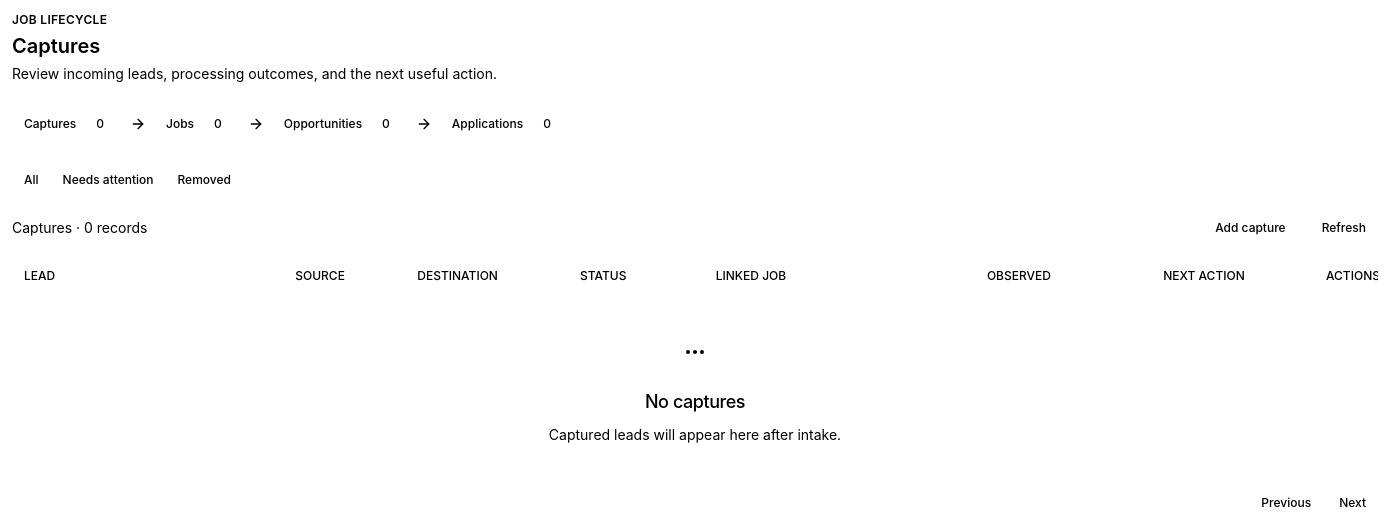
Test case: LifecycleWorkbench › loads every aggregate through the workspace client and switches the shared table wiring
Expected: the text "No captures" is shown, [645,388,745,416]
Click the button "Jobs 0".
click(197, 124)  # box [154,108,240,140]
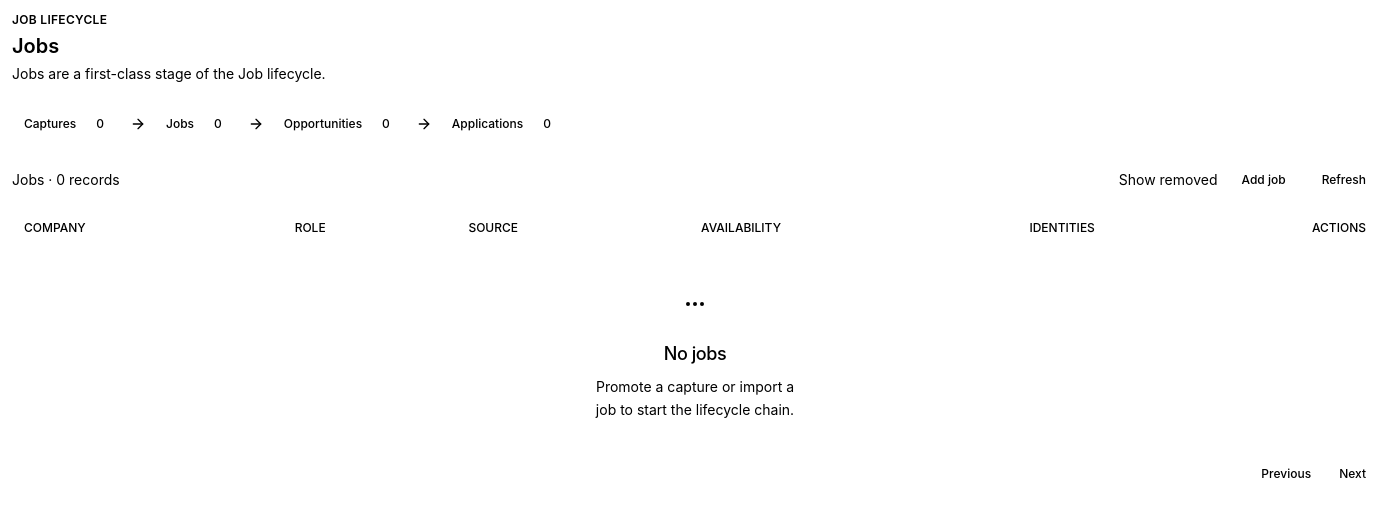
Now the table named "Jobs" is shown, box [12,208,1378,248]
Now the text "No jobs" is shown, box [664,340,726,368]
